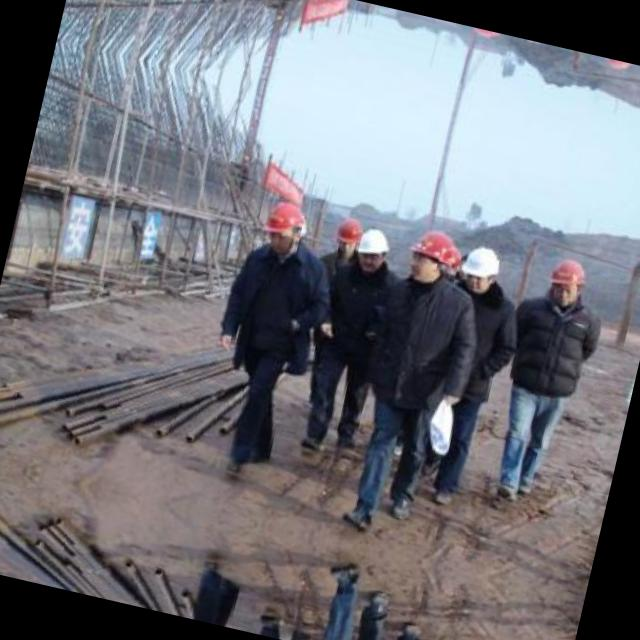helmet: (404, 223, 462, 286), (258, 194, 310, 254), (543, 250, 590, 308), (458, 241, 503, 293), (328, 211, 370, 262), (352, 223, 392, 273), (596, 56, 636, 78)
